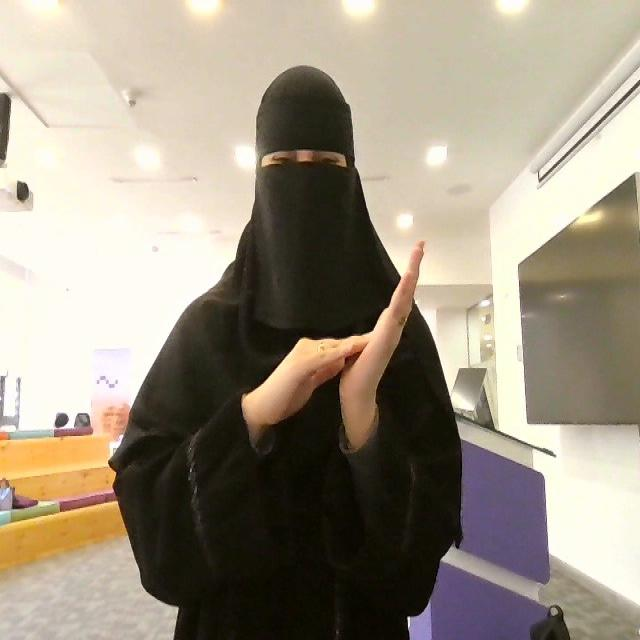complaint: (247, 234, 429, 454)
